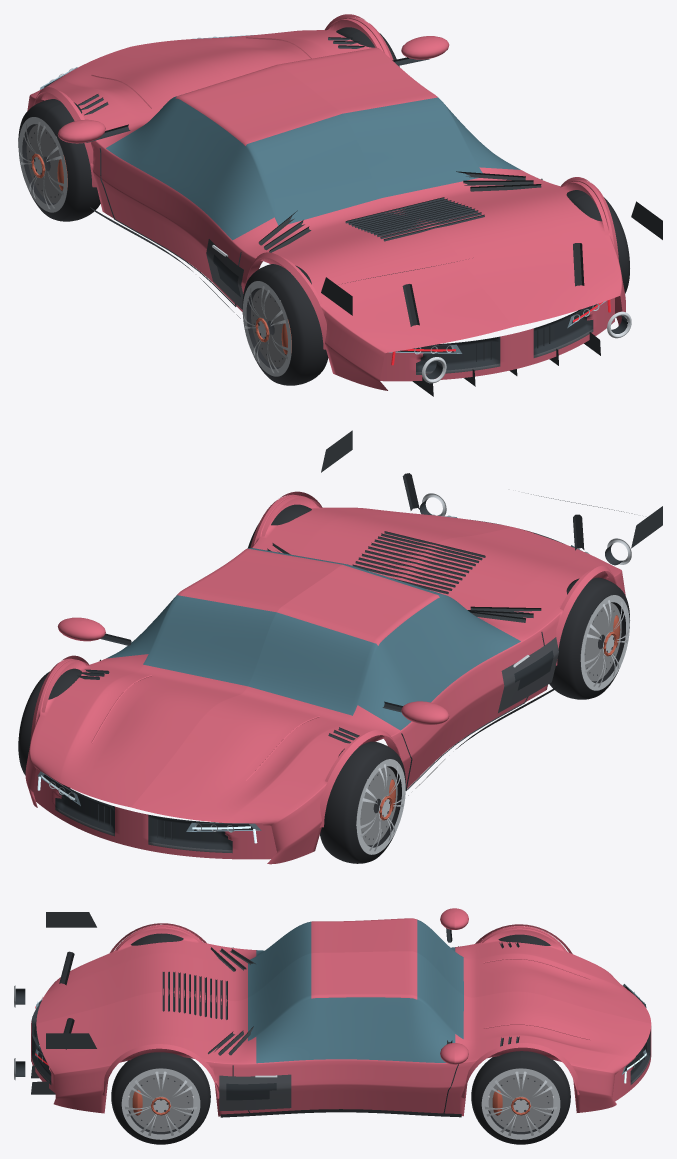
File: razor_x.glb
The picture shows the model from 3 angles, top to bottom: view 1: azimuth 30°, elevation 25°; view 2: azimuth 150°, elevation 25°; view 3: azimuth 270°, elevation 25°; orthographic projection. The views are drawn at different scales.
Parts seen in each view (by area): view 1: Body, Wheel_2, Wheel_0, Wheel_3; view 2: Body, Wheel_0, Wheel_2, Wheel_1; view 3: Body, Wheel_1, Wheel_3, Wheel_2, Wheel_0.
Part boxes in pixels (box(x1,y1,x2,y2)): Body: box(27, 14, 662, 396); Wheel_2: box(242, 264, 328, 385); Wheel_0: box(18, 99, 100, 221); Wheel_3: box(566, 190, 629, 293); Body: box(25, 430, 662, 864); Wheel_0: box(320, 741, 405, 863); Wheel_2: box(549, 577, 629, 699); Wheel_1: box(18, 668, 81, 788); Body: box(14, 908, 651, 1117); Wheel_1: box(471, 1051, 570, 1144); Wheel_3: box(111, 1052, 210, 1144); Wheel_2: box(131, 933, 183, 945); Wheel_0: box(498, 934, 550, 945).
Size of the model in its own units: 2.6 by 1.05 by 4.69.
